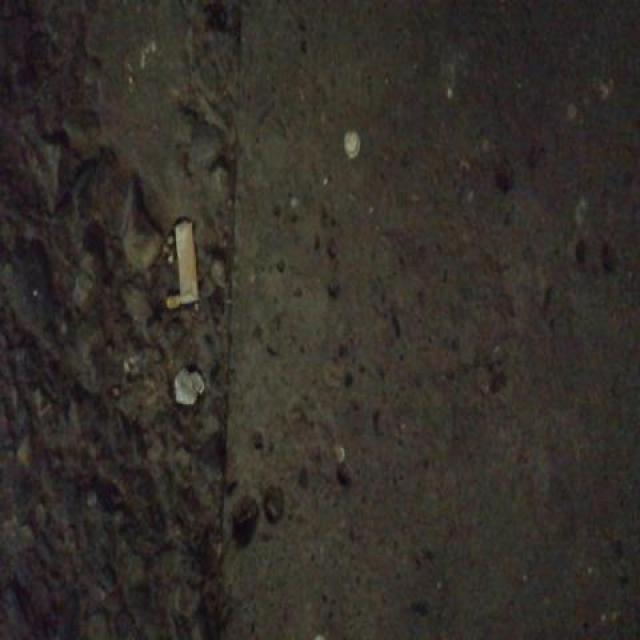non-organic waste: (170, 214, 202, 309)
